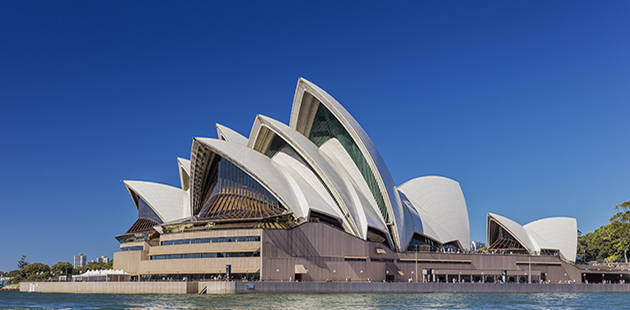opera house: (83, 66, 605, 288)
